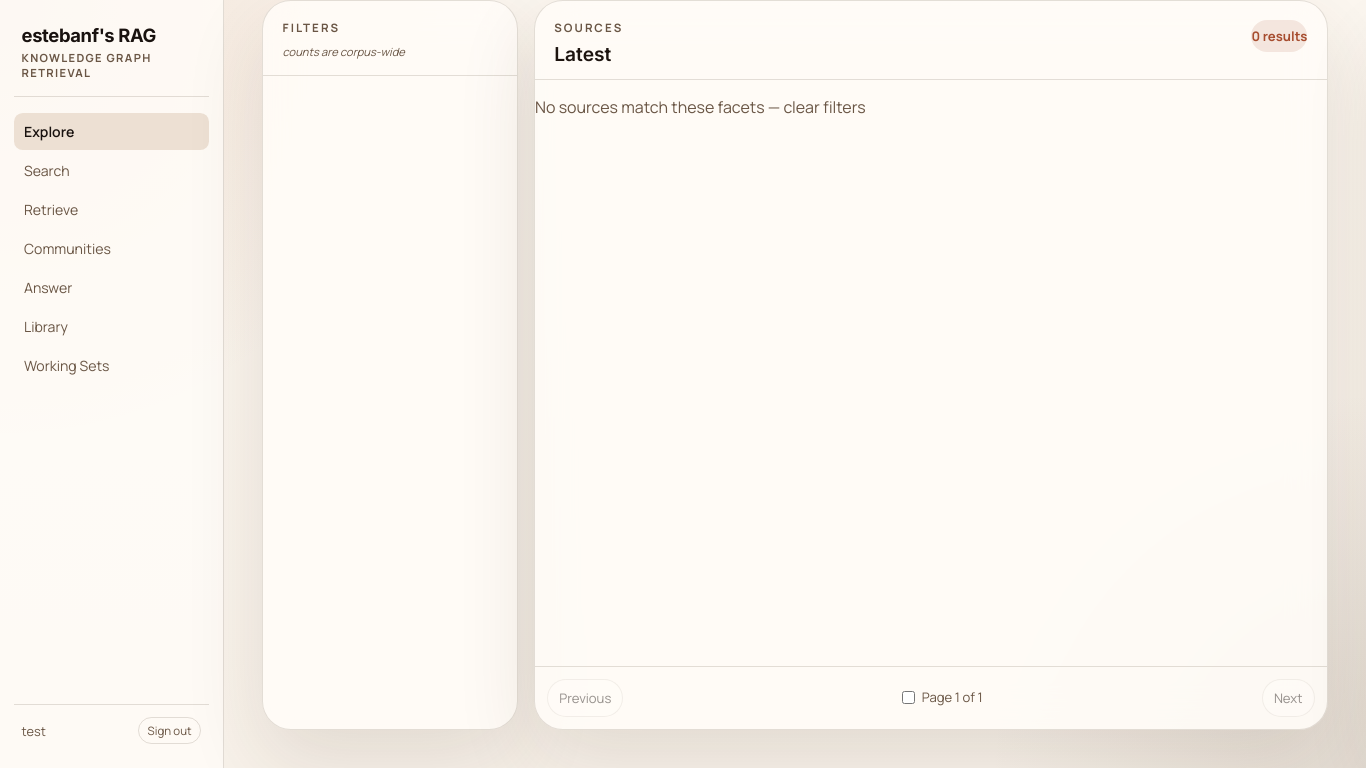
it: App › score and count controls visible in search, not in retrieve
Click the button "Search": (112, 170) [14,152,209,189]
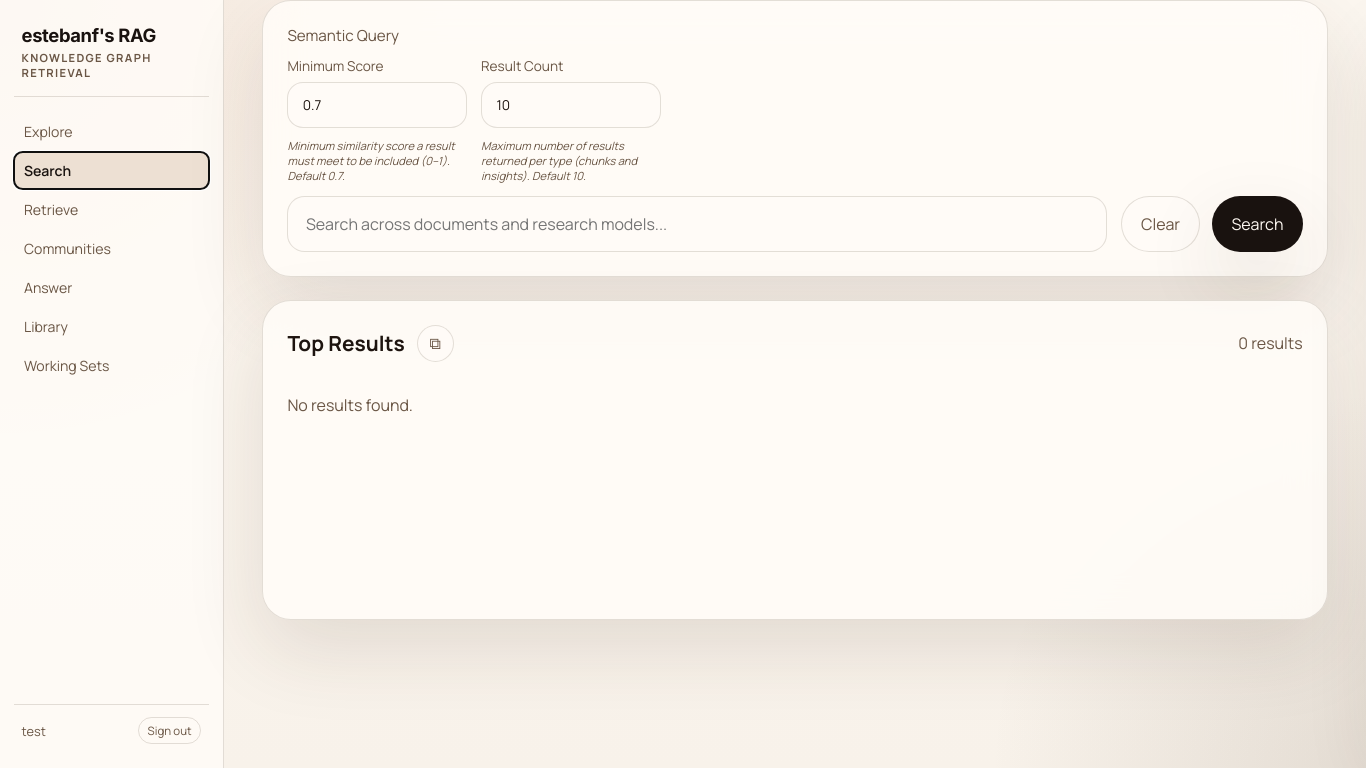
Check: the number field labelled "Minimum Score" is shown, box [287,82,467,128]
Check: the number field labelled "Result Count" is shown, box [481,82,661,128]
Click the button "Retrieve": (112, 209) [14,191,209,228]
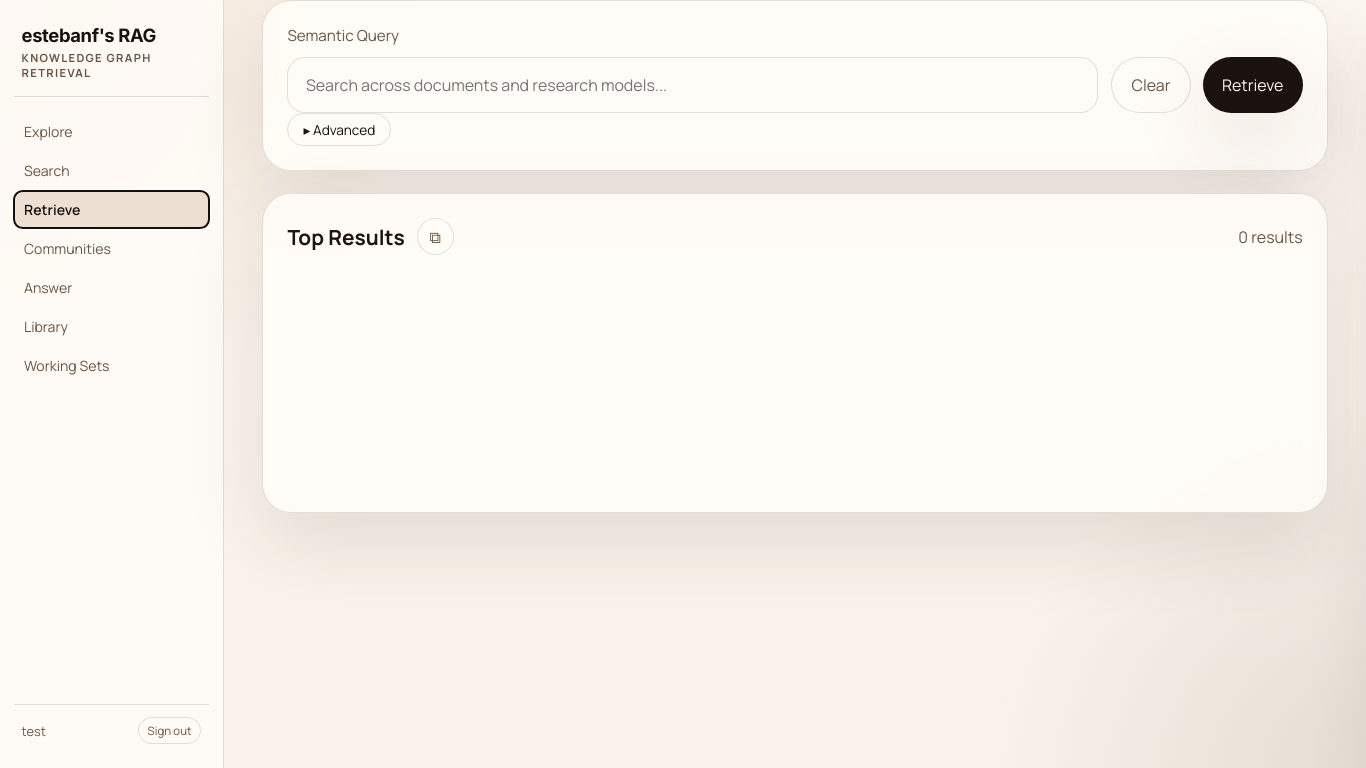
Check: the text labelled "Minimum Score" is gone
Check: the text labelled "Result Count" is gone
